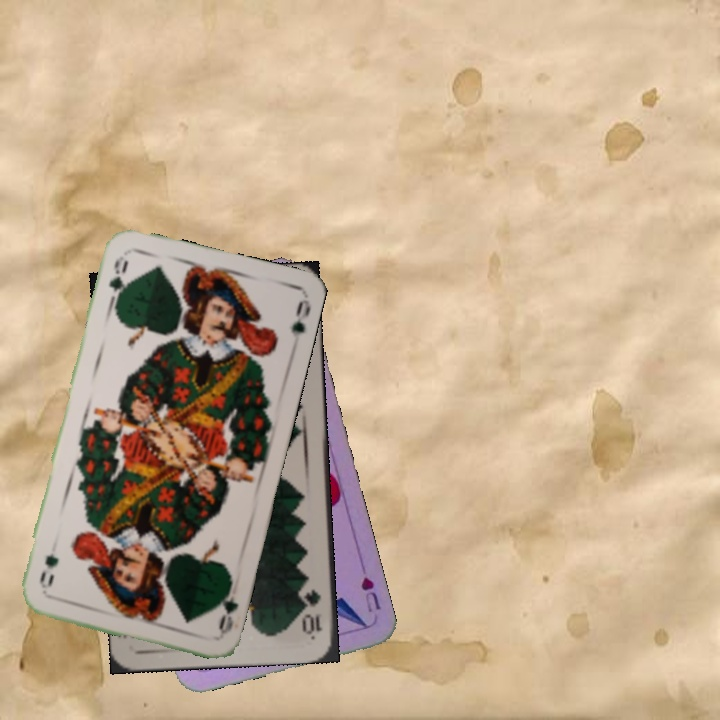G10: (300, 585, 325, 637)
GO: (212, 576, 241, 636), (104, 252, 131, 310)
HU: (356, 573, 384, 615)
